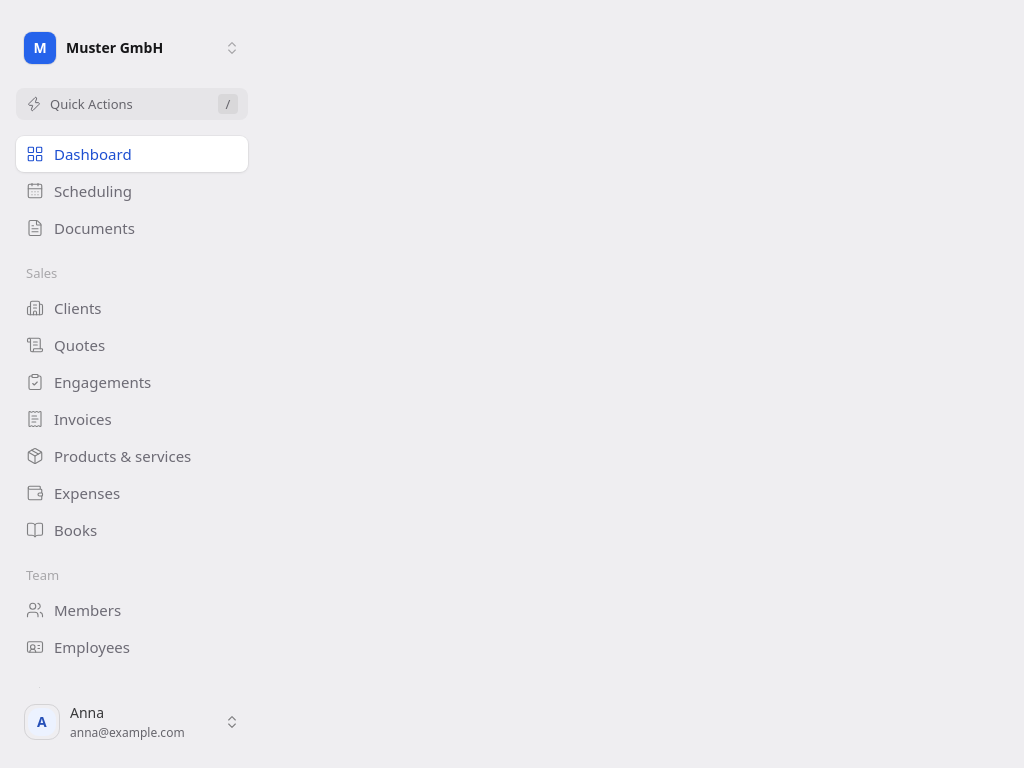
the user menu lists Keyboard shortcuts with its key, and opens the dialog
Click the button "A Anna anna@example.com": (132, 722) [16,696,248,748]
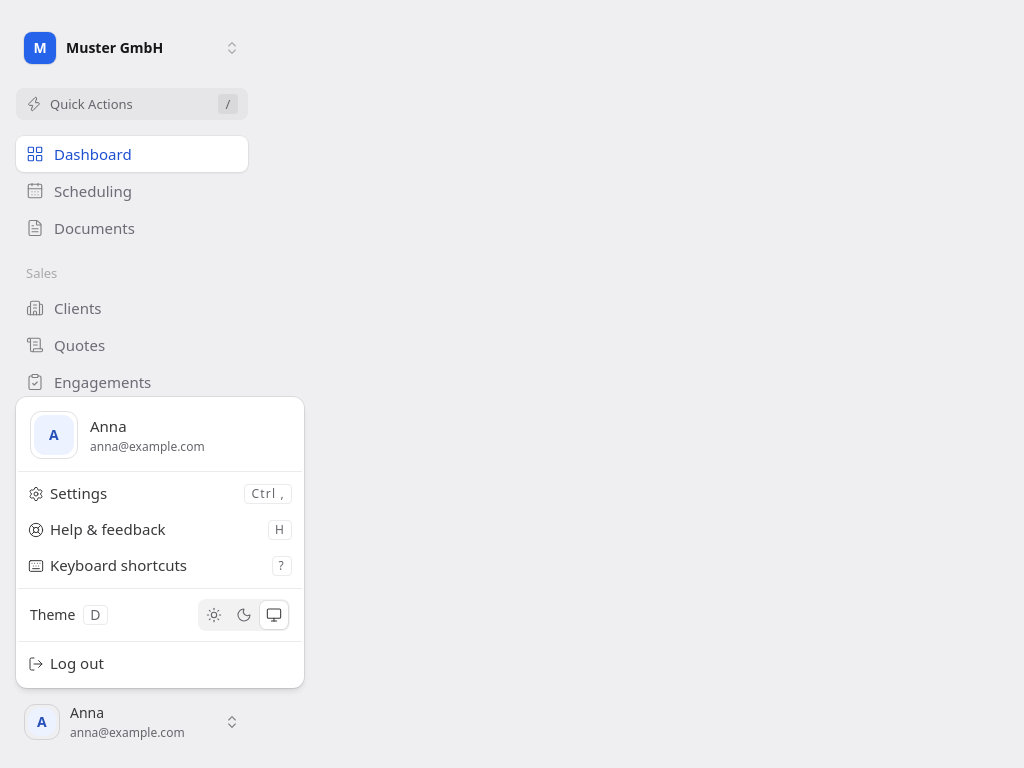
expect the menu item "Keyboard shortcuts ?" is shown: met
expect the menu item "Help & feedback H" is shown: met, box [28,519,292,540]
Click the menu item "Keyboard shortcuts ?": (160, 566) [28,555,292,576]
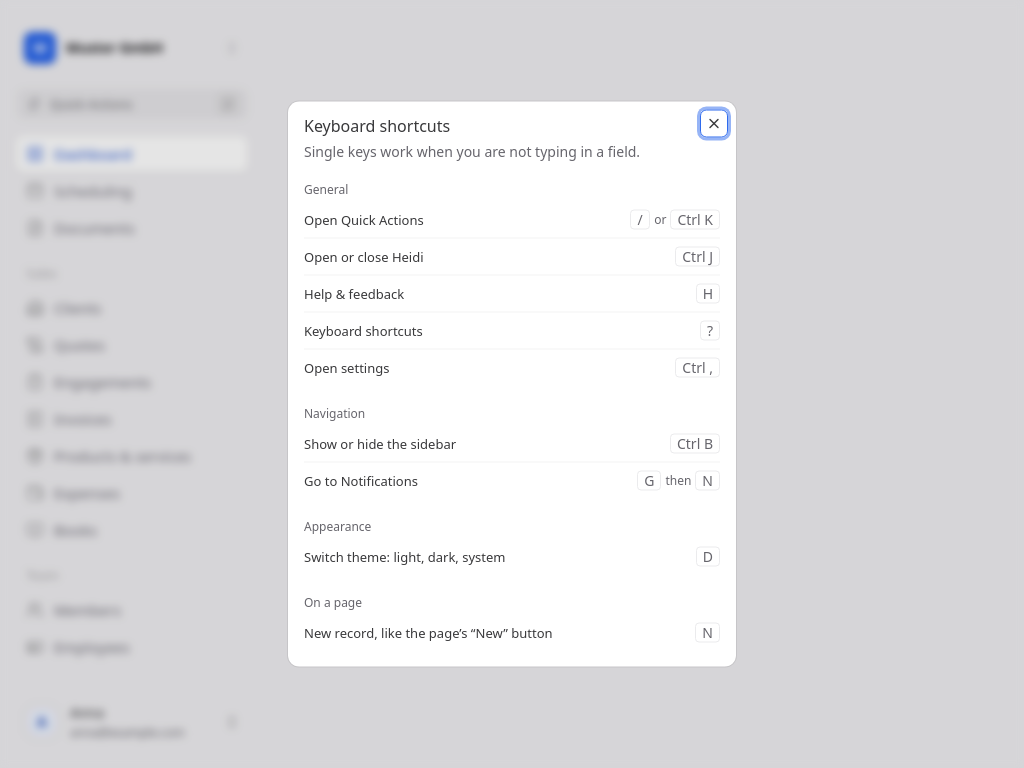
expect the dialog "Keyboard shortcuts" is shown: met, box [288,102,736,666]
